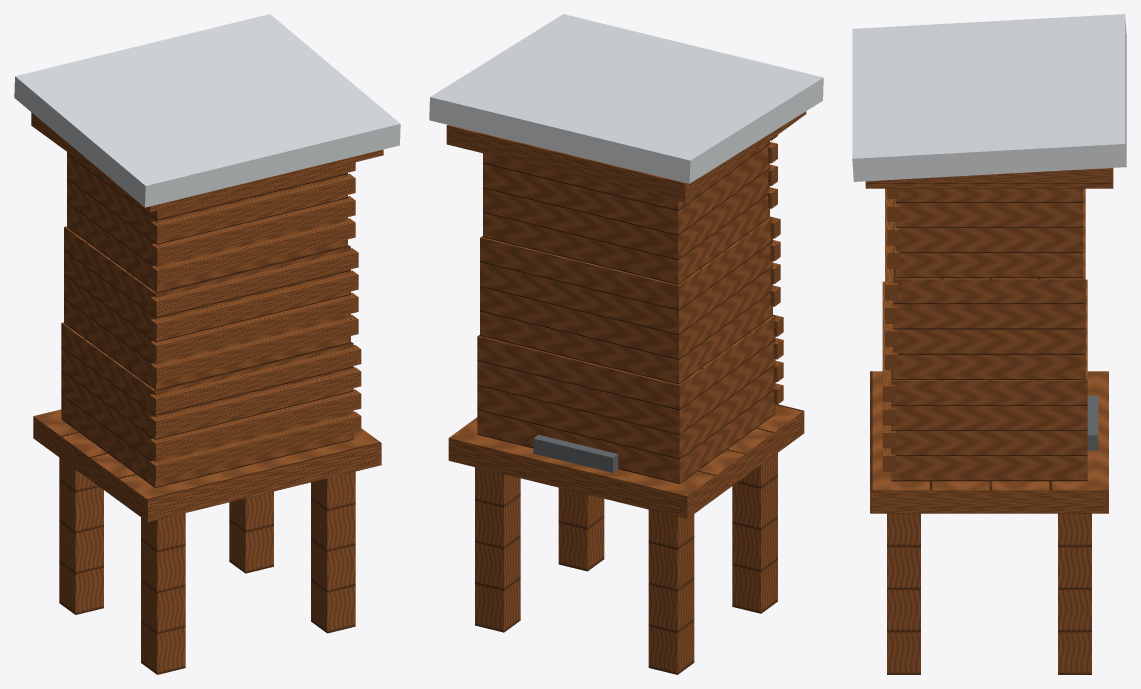
Rendered from allotments-and-community-garden-beehive-4d4aeced__35171.glb.
The picture shows the model from 3 angles, left to right: view 1: azimuth 30°, elevation 25°; view 2: azimuth 150°, elevation 25°; view 3: azimuth 270°, elevation 25°; orthographic projection. The views are drawn at different scales.
Parts seen in each view (by area): view 1: beehive-timber, beehive-galv; view 2: beehive-timber, beehive-galv, beehive-charcoal; view 3: beehive-timber, beehive-galv, beehive-charcoal.
Boxes of the visible parts, x1,y1,x2,y2 form: beehive-timber: (31,112,383,674); beehive-galv: (14,14,400,207); beehive-timber: (446,111,806,674); beehive-galv: (429,14,823,183); beehive-charcoal: (533,435,618,472); beehive-timber: (865,168,1113,674); beehive-galv: (852,14,1126,181); beehive-charcoal: (1087,395,1098,450).
Bounding box in the file's own units: 0.72 × 1.41 × 0.6425.
Materials: 3 (1 with a texture image).
